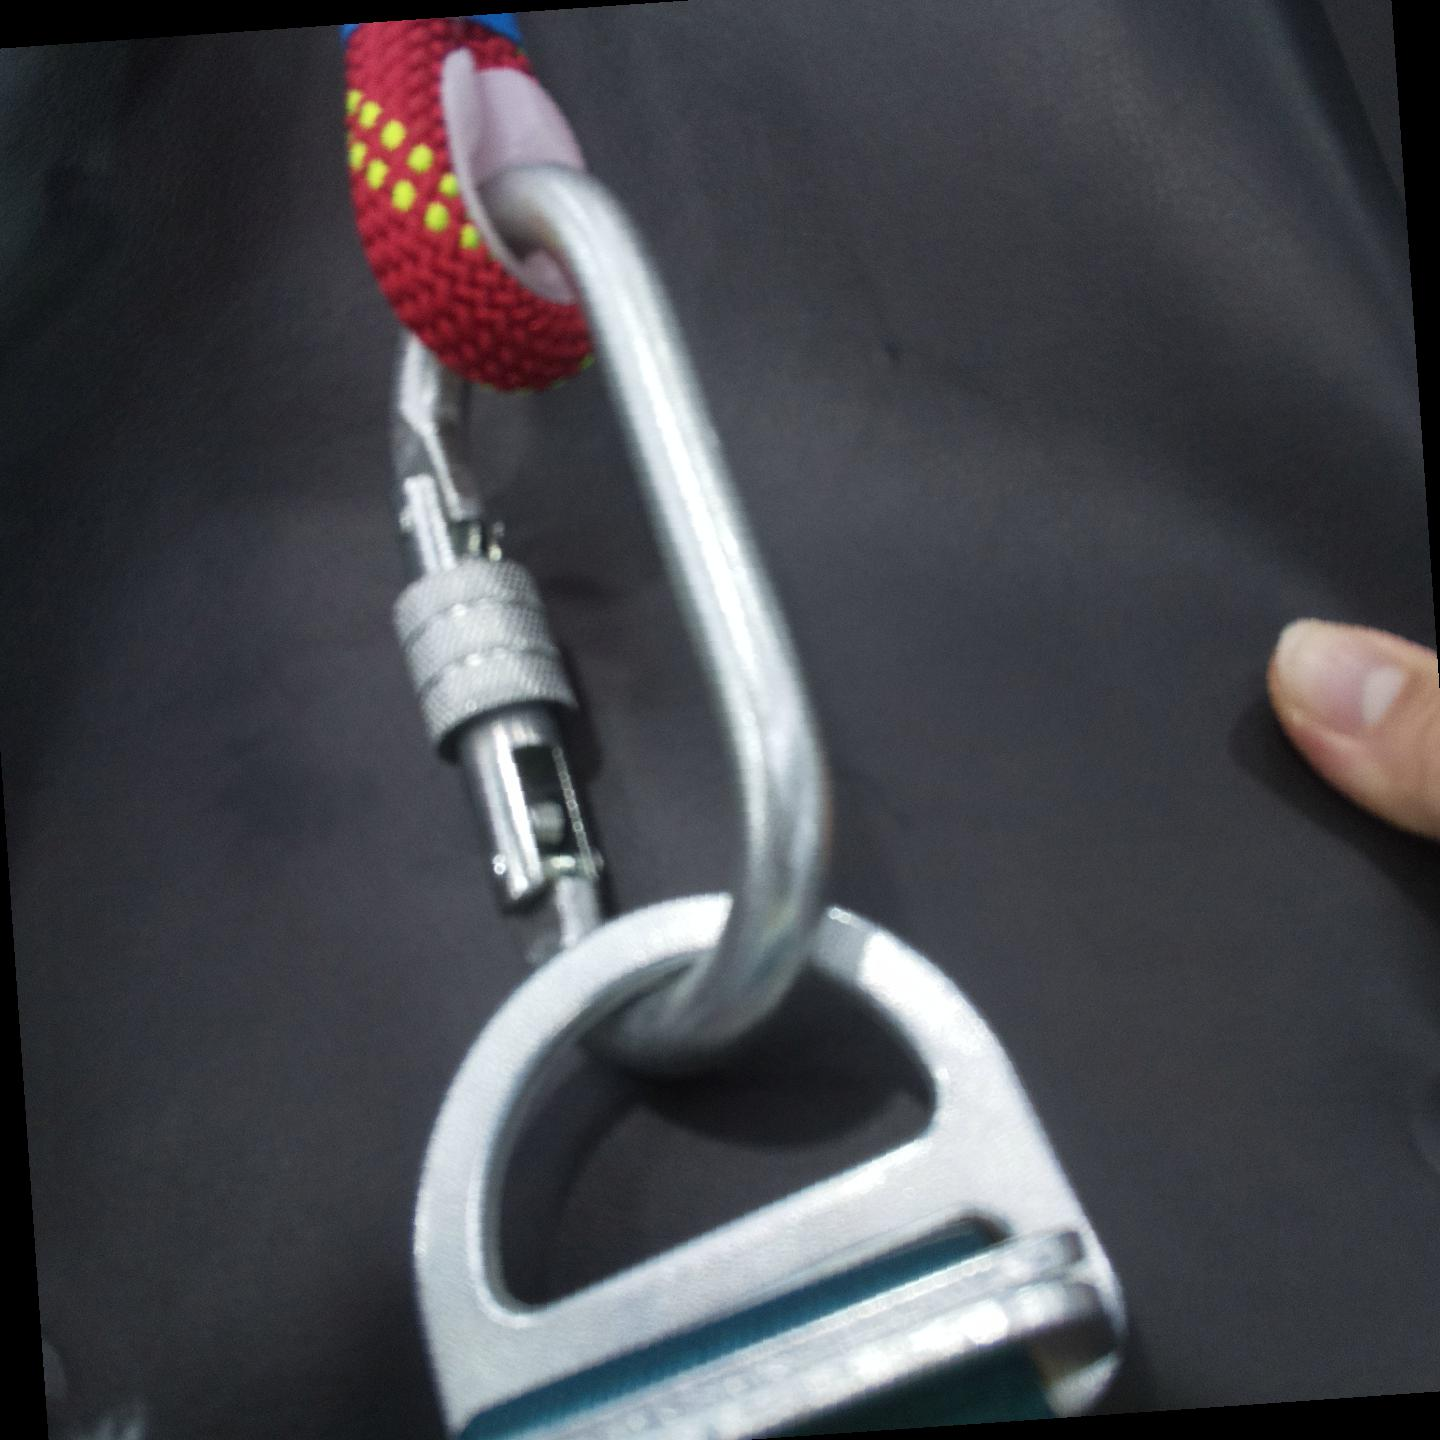SUCCESS: (392, 465, 1139, 1398)
